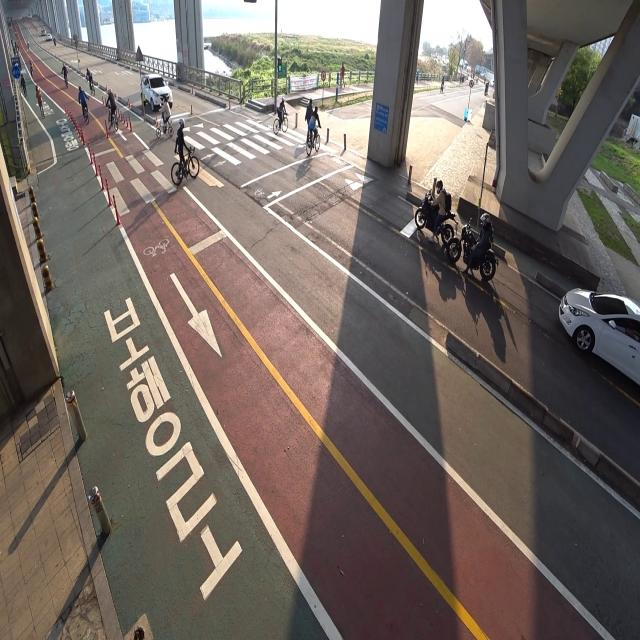Car: (554, 269, 640, 407), (141, 72, 178, 111)
Motorcycle: (445, 208, 497, 282), (413, 175, 457, 248)
